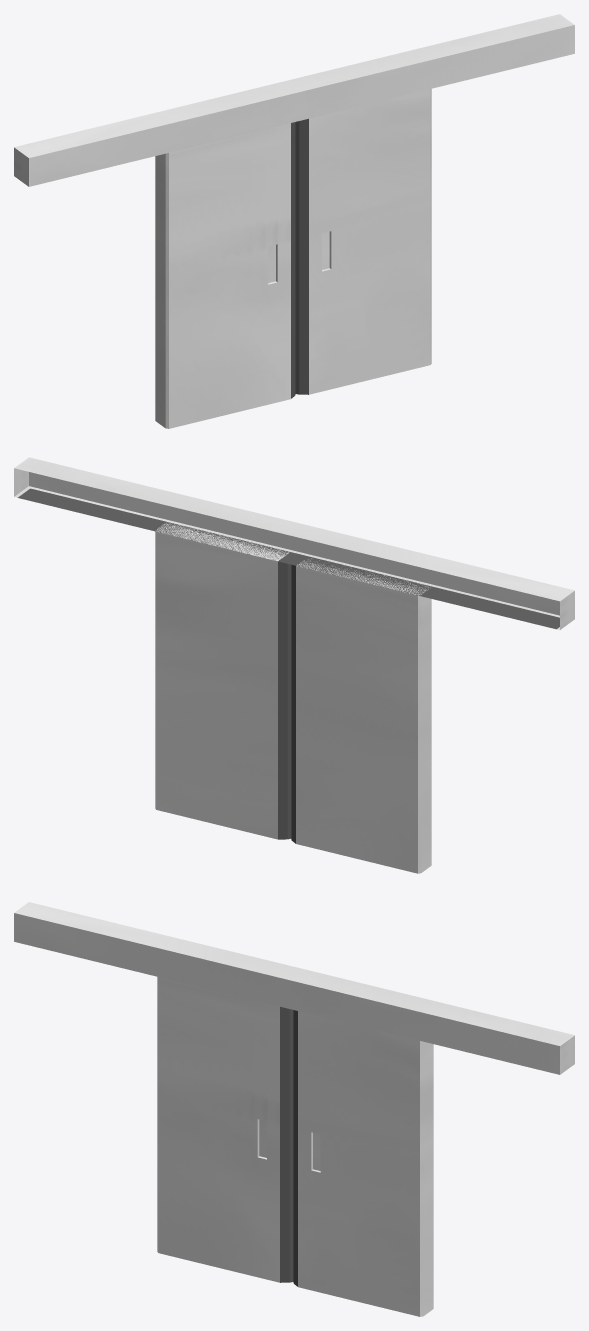
File: MSdoor.fbx
3 views of the same model, one above another, from view 1: azimuth 30°, elevation 25°; view 2: azimuth 150°, elevation 25°; view 3: azimuth 330°, elevation 25° (orthographic).
Parts seen in each view (by area): view 1: Cube; view 2: Cube; view 3: Cube.
Boxes of the visible parts, x1=… form: Cube: x1=14, y1=14, x2=574, y2=428; Cube: x1=14, y1=457, x2=574, y2=873; Cube: x1=14, y1=902, x2=574, y2=1316.
Bounding box in the file's own units: 308 × 166 × 14.61.
2 materials, 1 textured.
